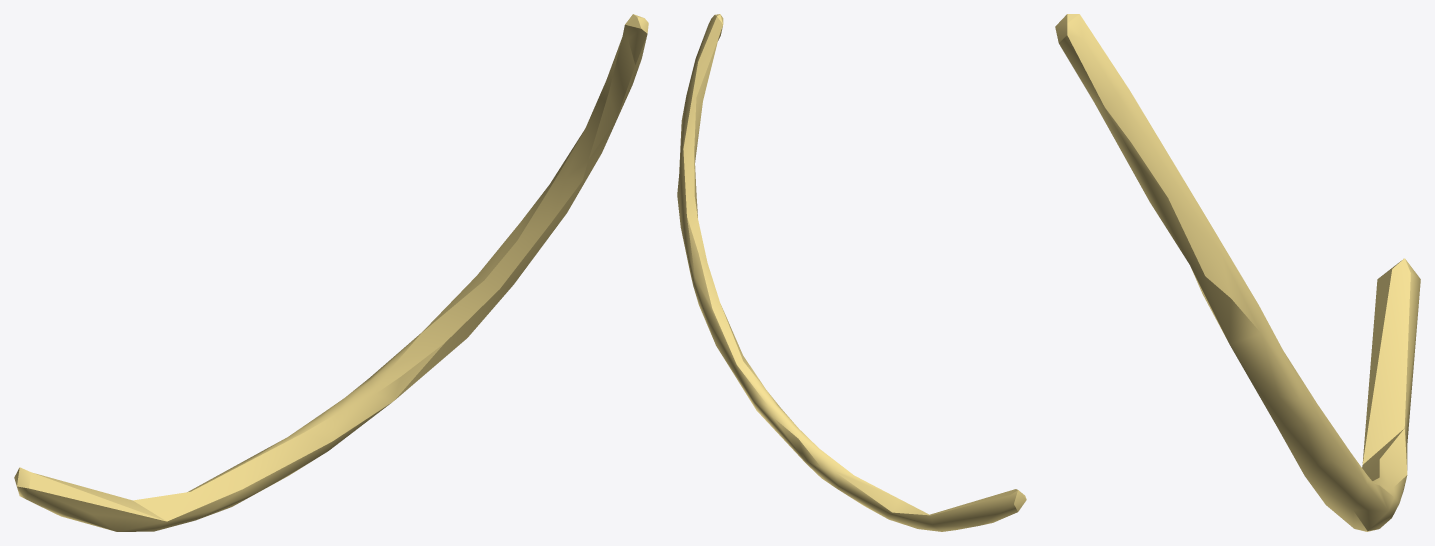
Rendered from fma52580_fj3965.glb.
3 renders of one model, left to right at view 1: azimuth 30°, elevation 25°; view 2: azimuth 150°, elevation 25°; view 3: azimuth 270°, elevation 25°, orthographic. The views are drawn at different scales.
Parts seen in each view (by area): view 1: FMA52580_FJ3965; view 2: FMA52580_FJ3965; view 3: FMA52580_FJ3965.
Part boxes in pixels (x1,y1,x2,y2): FMA52580_FJ3965: (14,14,648,531); FMA52580_FJ3965: (677,14,1026,531); FMA52580_FJ3965: (1055,14,1420,531).
Size of the model in its own units: 0.00571 by 0.00518 by 0.00234.
